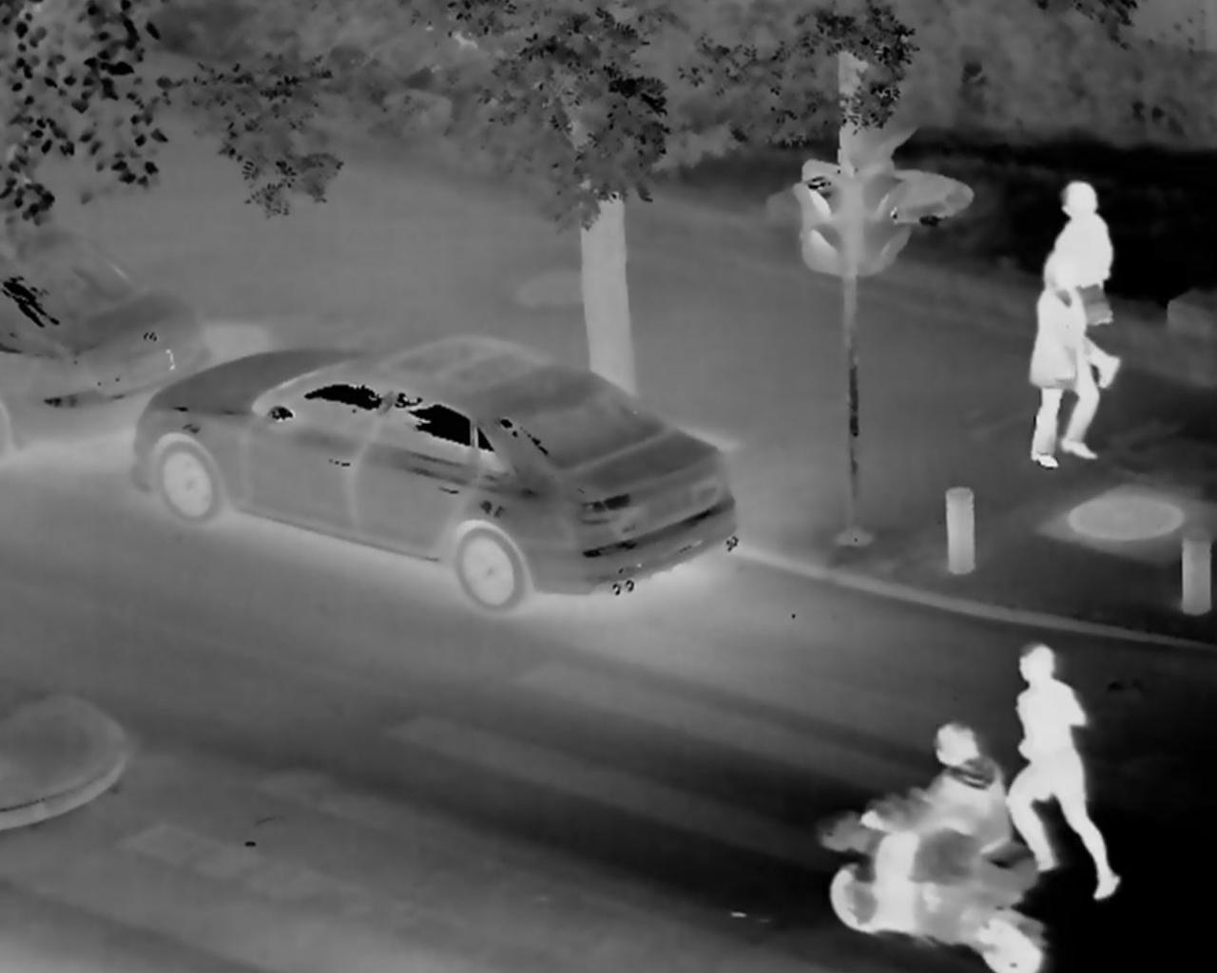person: (811, 724, 1020, 947), (992, 641, 1136, 905), (997, 254, 1110, 478), (1031, 175, 1130, 395)
